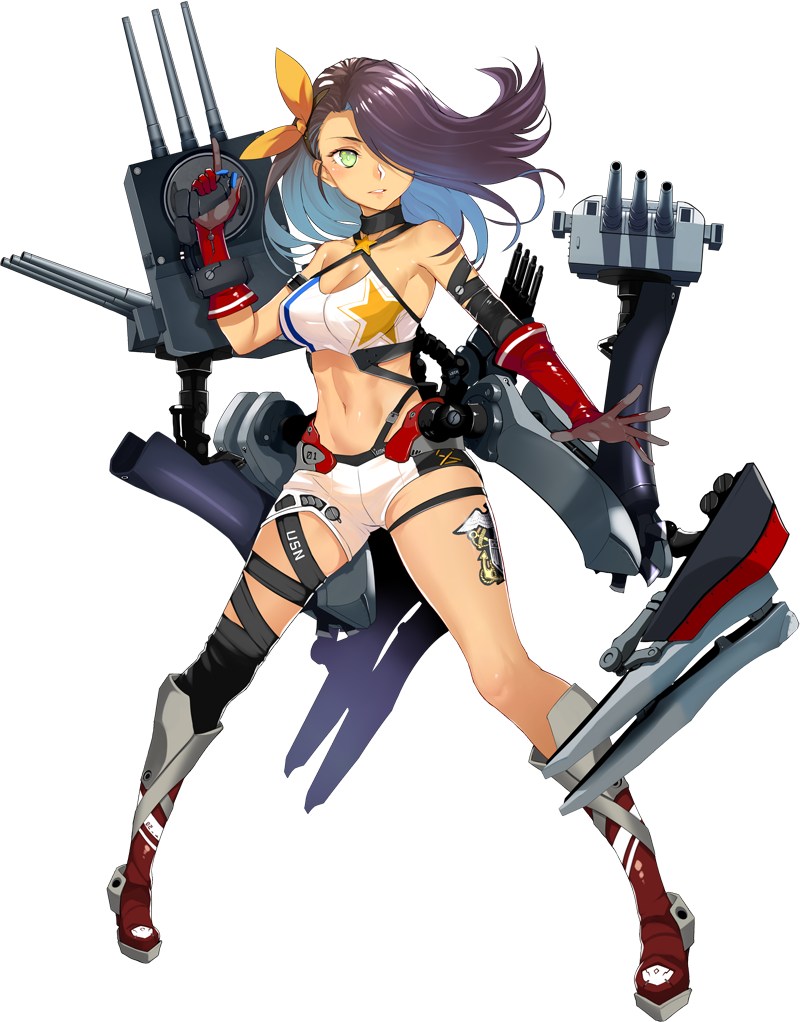person: (162, 58, 580, 794)
